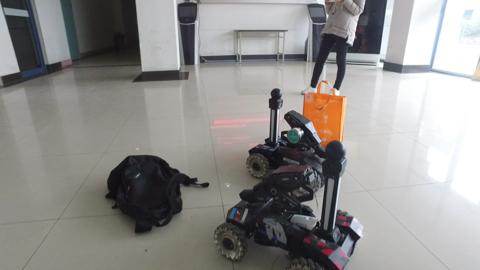bag: (102, 152, 191, 233), (302, 78, 346, 136)
chariot: (214, 142, 363, 269), (244, 90, 333, 172)
